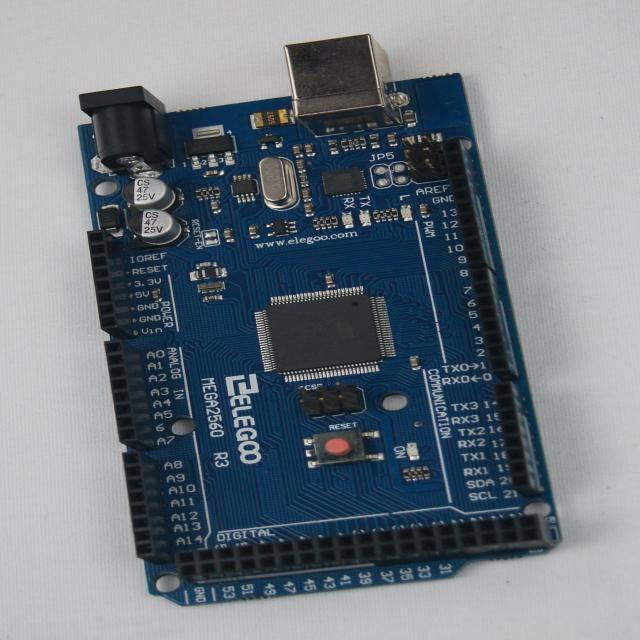Arduino Mega 2560 -Blue-: (80, 35, 560, 604)
